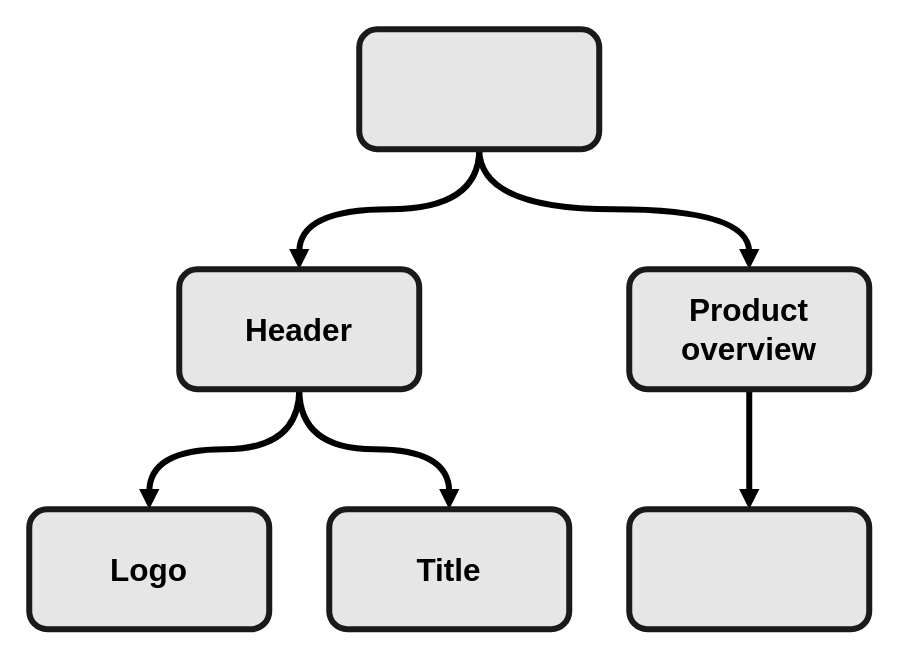
Image size: 897x657. Some labels were removed from this diagram. Each missing label, with the centre of its shape:
"Application Root" goes at (479,89).
"Single Product" goes at (749,569).
